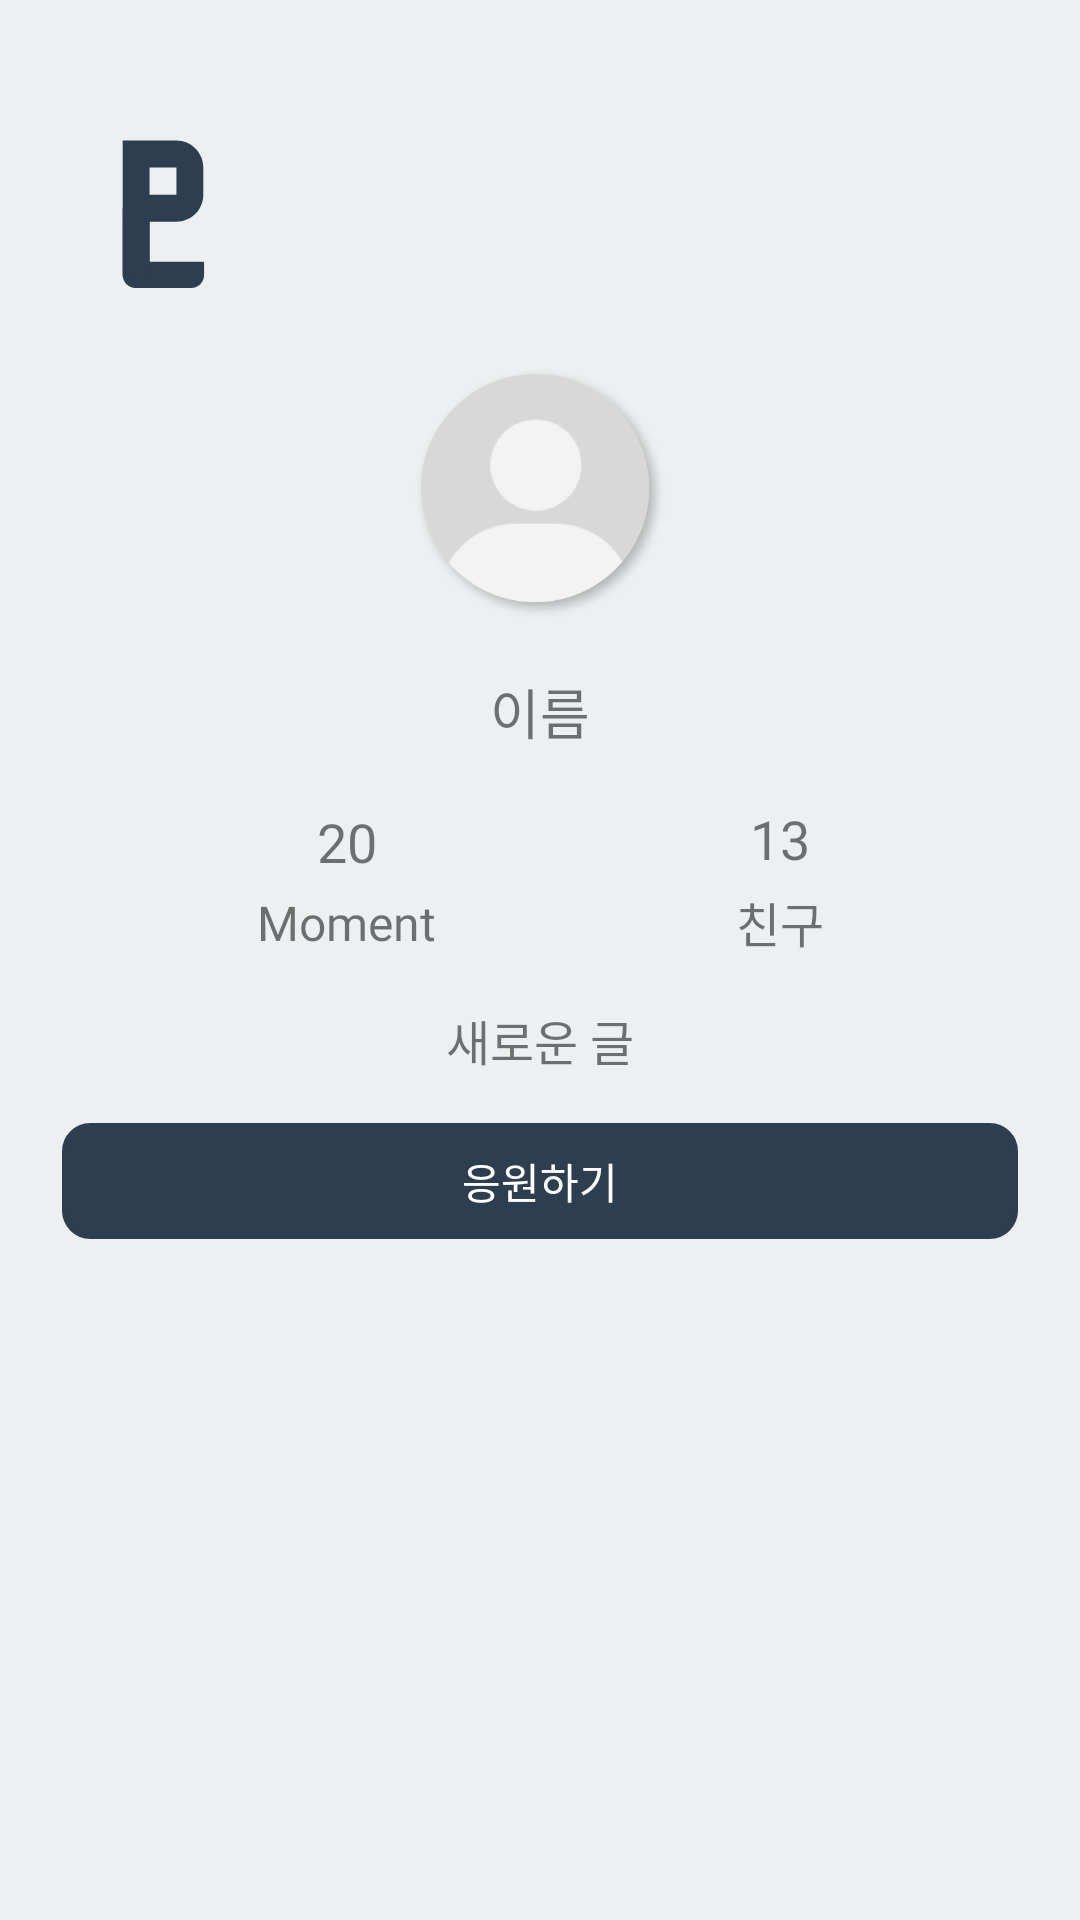

Named icons in this screenshot (1080*1920) and their bounding boxes, (x1, y1, x2, y2):
myprofile: (421, 374, 656, 609)
